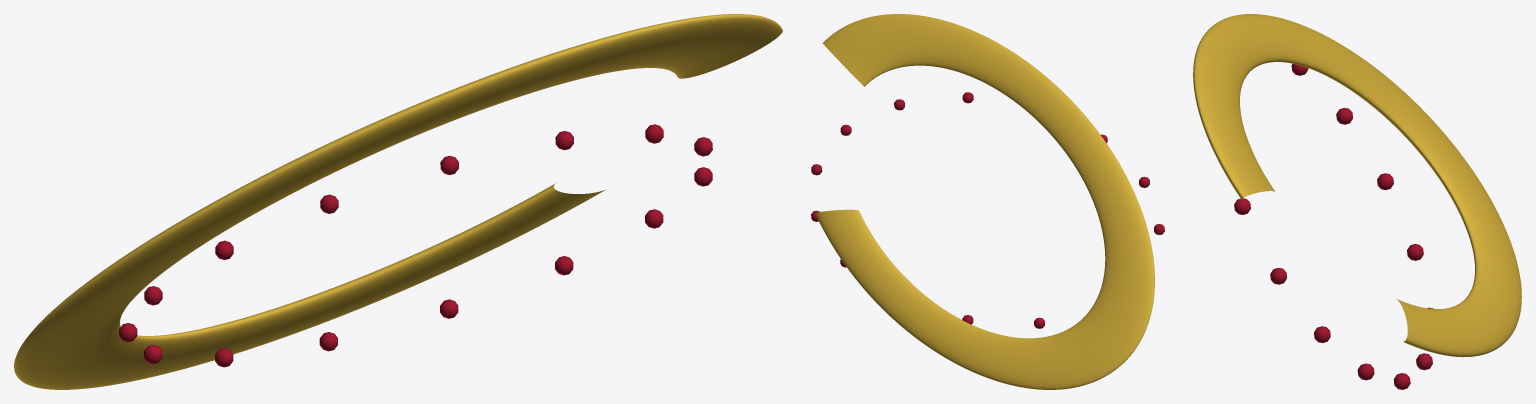
Rendered from rani-temple-bangle.glb.
3 renders of one model, left to right at view 1: azimuth 30°, elevation 25°; view 2: azimuth 150°, elevation 25°; view 3: azimuth 270°, elevation 25°, orthographic. The views are drawn at different scales.
Visible parts, largest first — view 1: cuff_body; view 2: cuff_body; view 3: cuff_body.
Part boxes in pixels (<box>): cuff_body: <box>14,14,782,389</box>; cuff_body: <box>815,14,1154,389</box>; cuff_body: <box>1193,14,1521,357</box>.
Bounding box in the file's own units: 2.34 × 1.39 × 1.15.
